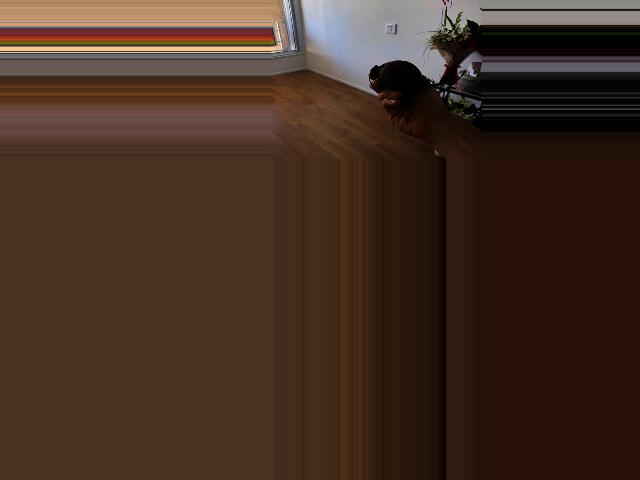beet: (368, 60, 464, 94)
